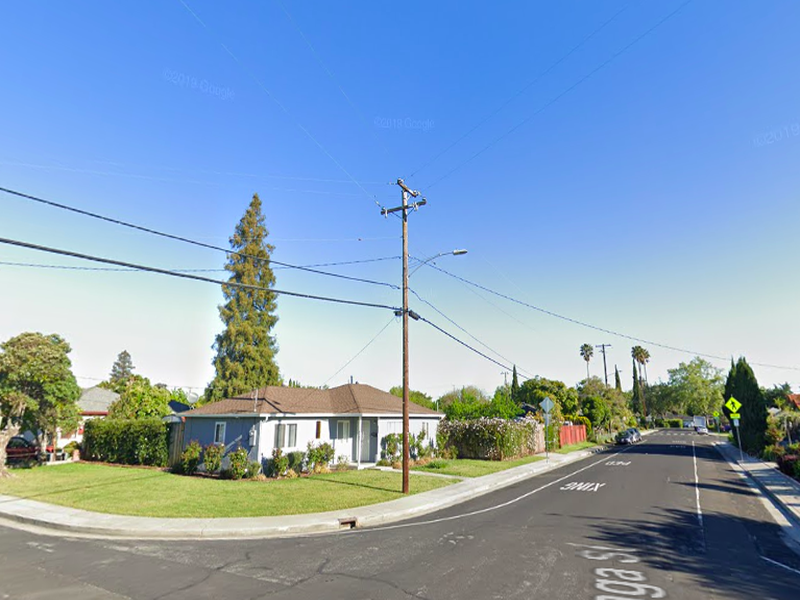utility_pole: (372, 166, 432, 239)
